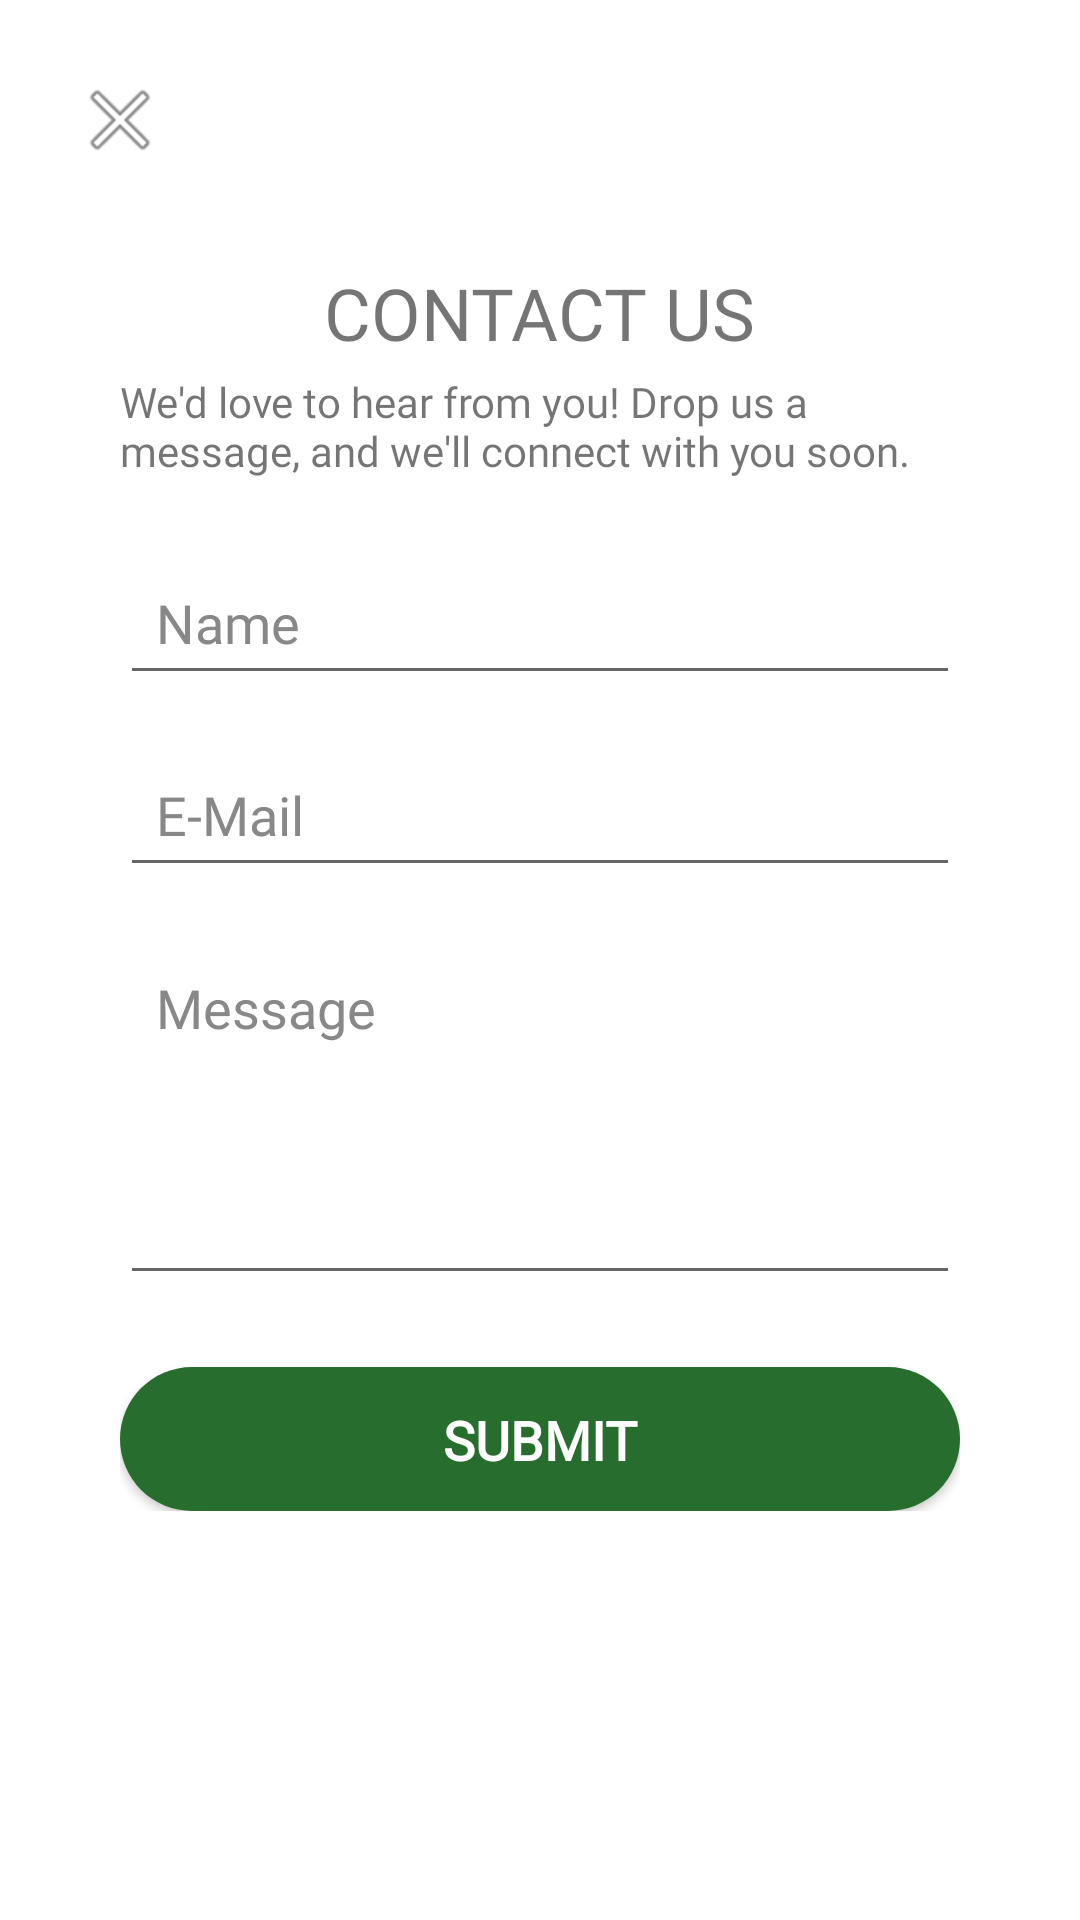

Where to tap for icons on this 1080x1920 app screen, as (x,y):
Close: (120,120)
